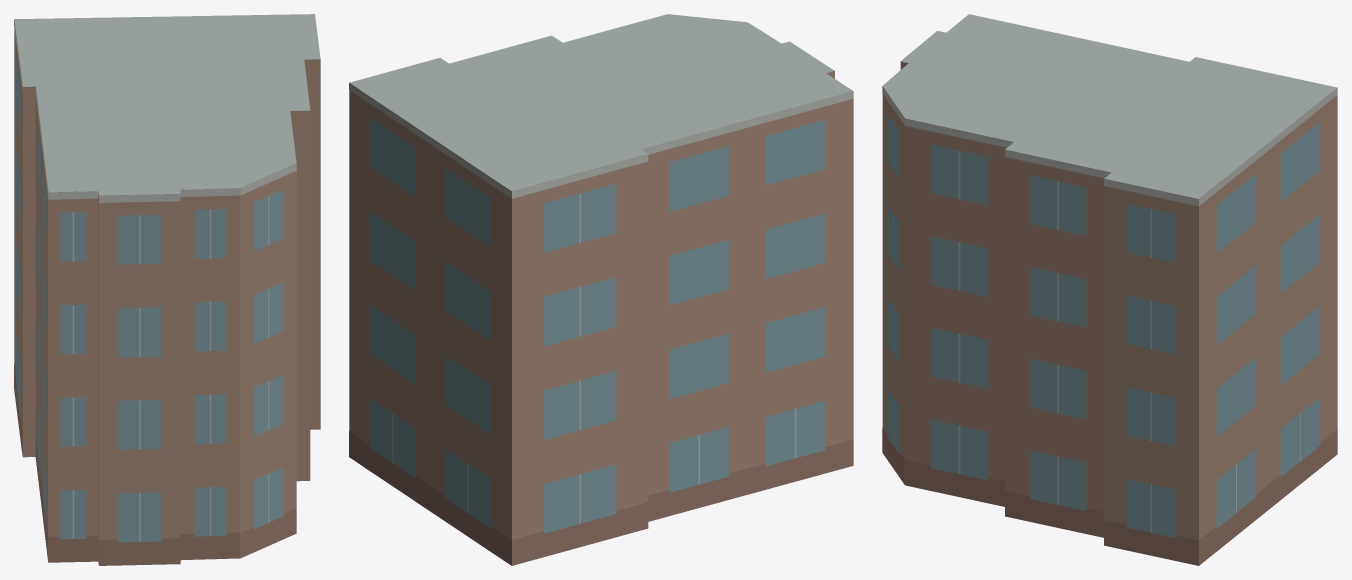
Rendered from survey-upis-32507016.glb.
The picture shows the model from 3 angles, left to right: view 1: azimuth 30°, elevation 25°; view 2: azimuth 150°, elevation 25°; view 3: azimuth 270°, elevation 25°; orthographic projection. The views are drawn at different scales.
Visible parts, largest first — view 1: survey-upis-32507016.tmp; view 2: survey-upis-32507016.tmp; view 3: survey-upis-32507016.tmp.
Boxes of the visible parts, box(x1,y1,x2,y2) form: survey-upis-32507016.tmp: box(14, 14, 320, 565); survey-upis-32507016.tmp: box(349, 14, 853, 565); survey-upis-32507016.tmp: box(882, 14, 1337, 565).
Bounding box in the file's own units: 13.2 × 12.2 × 13.73.
